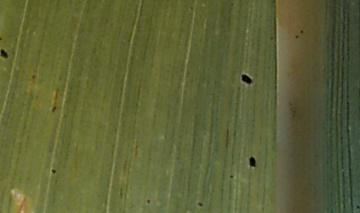tarspot: (239, 72, 253, 85), (248, 155, 257, 168), (1, 48, 9, 59), (29, 73, 37, 80), (51, 104, 57, 113), (50, 168, 57, 174), (145, 198, 151, 205), (197, 201, 203, 208), (294, 33, 299, 40), (229, 173, 234, 179), (356, 204, 360, 209), (300, 29, 304, 33)
